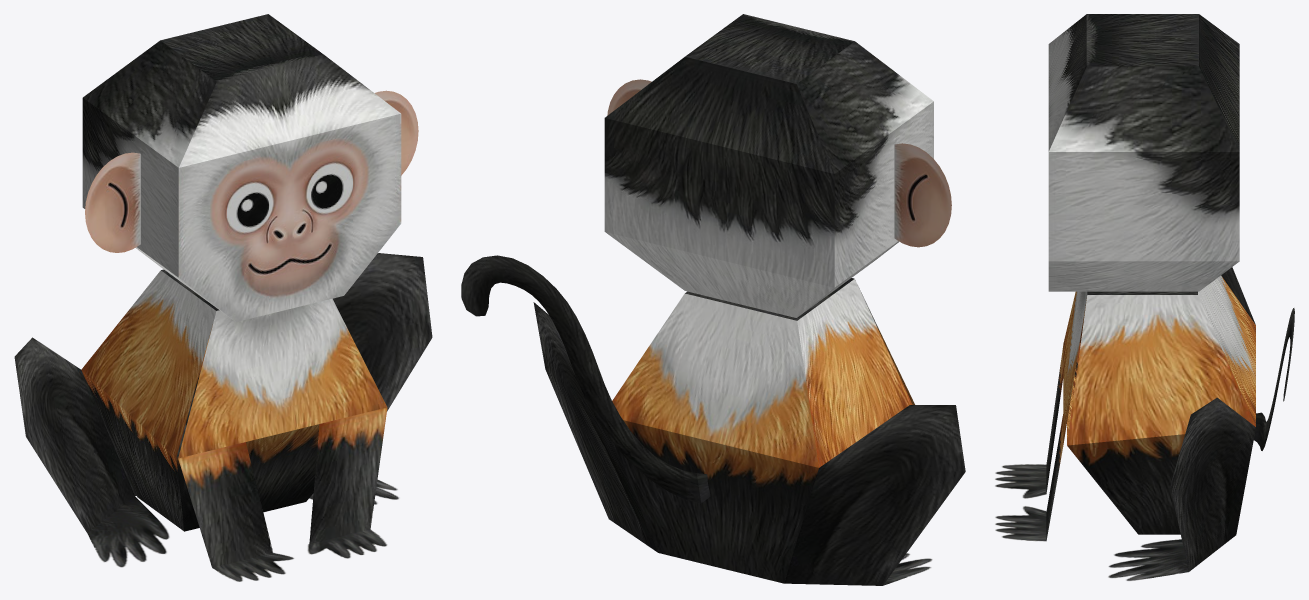
The model's file is Mono Cariblanco.glb.
3 renders of one model, left to right at view 1: azimuth 30°, elevation 25°; view 2: azimuth 150°, elevation 25°; view 3: azimuth 270°, elevation 25°, orthographic. The views are drawn at different scales.
Parts seen in each view (by area): view 1: Mono Cariblanco; view 2: Mono Cariblanco; view 3: Mono Cariblanco.
Boxes of the visible parts, bbox=[...] form: Mono Cariblanco: bbox=[14, 14, 432, 581]; Mono Cariblanco: bbox=[461, 14, 965, 585]; Mono Cariblanco: bbox=[995, 14, 1294, 581].
Size of the model in its own units: 0.5862 by 0.615 by 0.3567.
2 materials, 2 textured.
